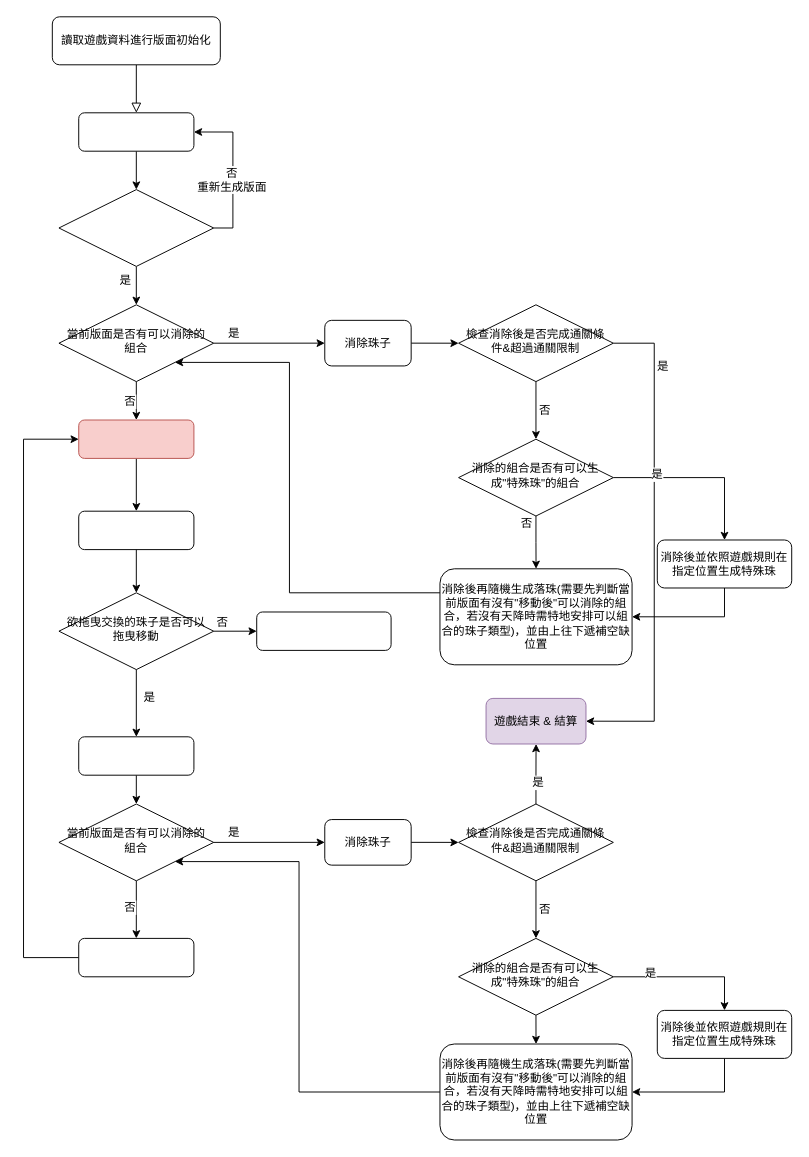
Some shapes in this 809 by 1157 pixel diagram are drawn without their labels. The centre of each missing label's shape, as x and y in pixels:
交換珠子: (136,755)
依照遊戲資料生成對應落珠: (136,131)
操作無效，請重新拖曳: (323,630)
玩家交換場上珠子: (136,530)
珠子復原到交換前的狀態: (136,957)
當前版面是否有"移動後"可以消除的組合: (136,227)
遊戲開始: (136,438)
